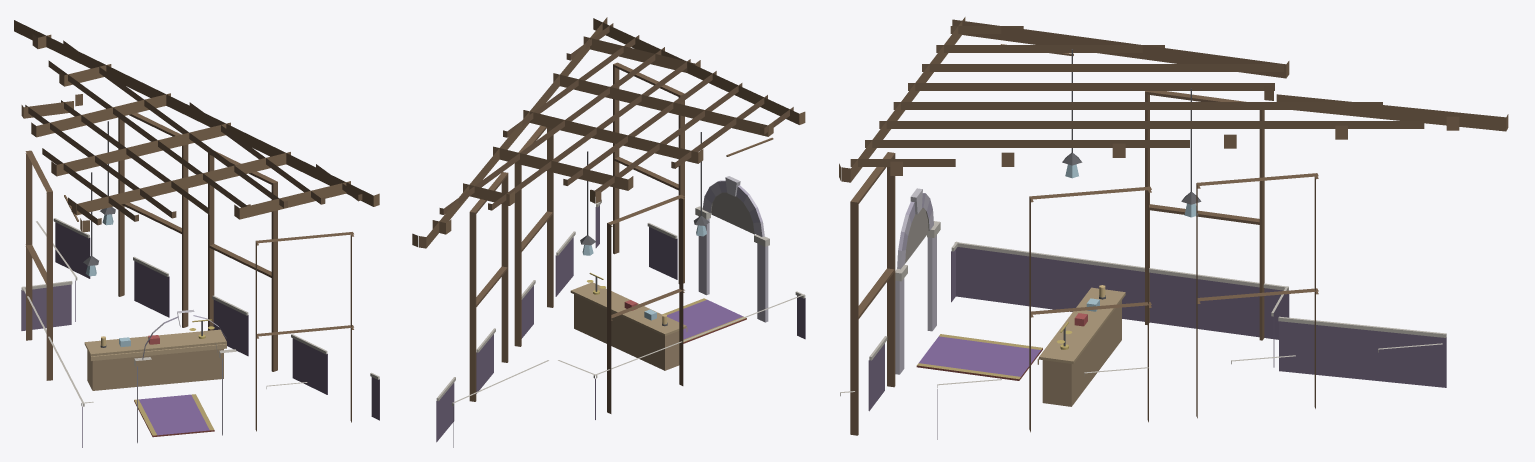
Rendered from interior_b012.glb.
3 views of the same model, side by side, from view 1: azimuth 30°, elevation 25°; view 2: azimuth 150°, elevation 25°; view 3: azimuth 270°, elevation 25° (orthographic). The views are drawn at different scales.
Visible parts, largest first — view 1: Interior_B012_mesh; view 2: Interior_B012_mesh; view 3: Interior_B012_mesh.
Boxes of the visible parts, left/top/right/bottom form: Interior_B012_mesh: left=14, top=20, right=379, bottom=447; Interior_B012_mesh: left=412, top=17, right=805, bottom=447; Interior_B012_mesh: left=839, top=17, right=1508, bottom=439.
Size of the model in its own units: 7.48 by 6.35 by 13.97.
